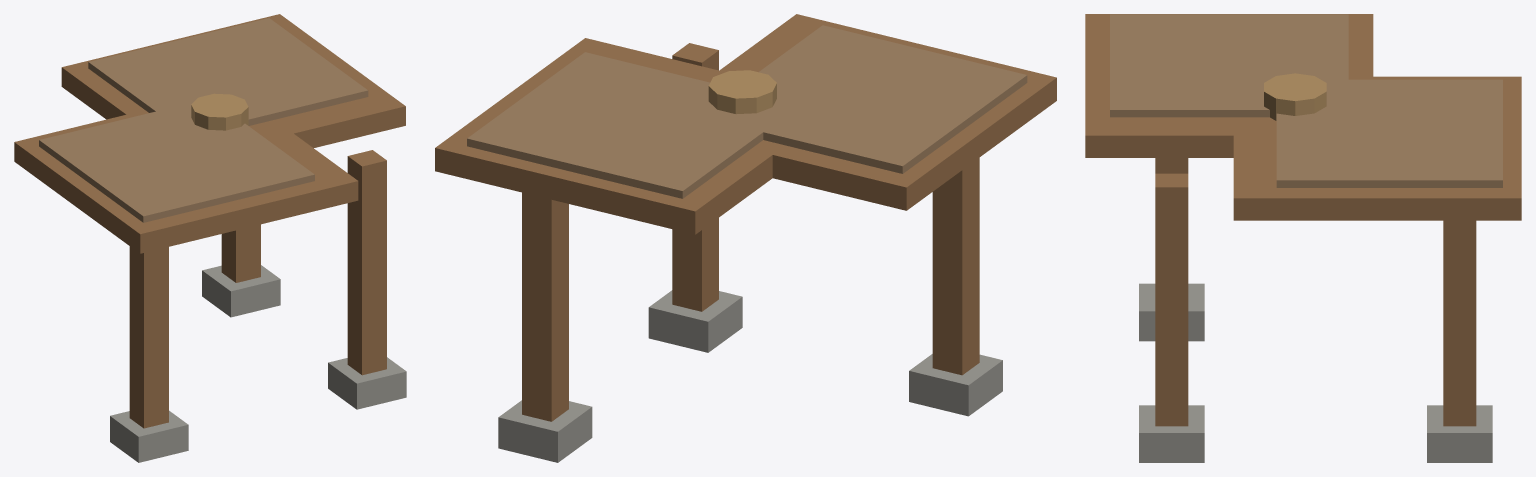
File: vf_conveyor_corner.glb
3 renders of one model, left to right at view 1: azimuth 30°, elevation 25°; view 2: azimuth 150°, elevation 25°; view 3: azimuth 270°, elevation 25°, orthographic. The views are drawn at different scales.
Visible parts, largest first — view 1: Static_Oak, Static_Hide, Static_Stone, Static_Bronze; view 2: Static_Oak, Static_Hide, Static_Stone, Static_Bronze; view 3: Static_Hide, Static_Oak, Static_Stone, Static_Bronze.
Part boxes in pixels (left/top/right/bottom): Static_Oak: left=14, top=14, right=405, bottom=428; Static_Hide: left=39, top=18, right=368, bottom=222; Static_Stone: left=110, top=265, right=406, bottom=462; Static_Bronze: left=191, top=93, right=248, bottom=130; Static_Oak: left=435, top=14, right=1056, bottom=421; Static_Hide: left=467, top=25, right=1027, bottom=198; Static_Stone: left=498, top=290, right=1002, bottom=462; Static_Bronze: left=708, top=70, right=776, bottom=114; Static_Hide: left=1110, top=14, right=1502, bottom=187; Static_Oak: left=1085, top=14, right=1521, bottom=426; Static_Stone: left=1139, top=283, right=1492, bottom=462; Static_Bronze: left=1264, top=73, right=1326, bottom=120.
Bounding box in the file's own units: 1.06 × 0.83 × 1.06.
